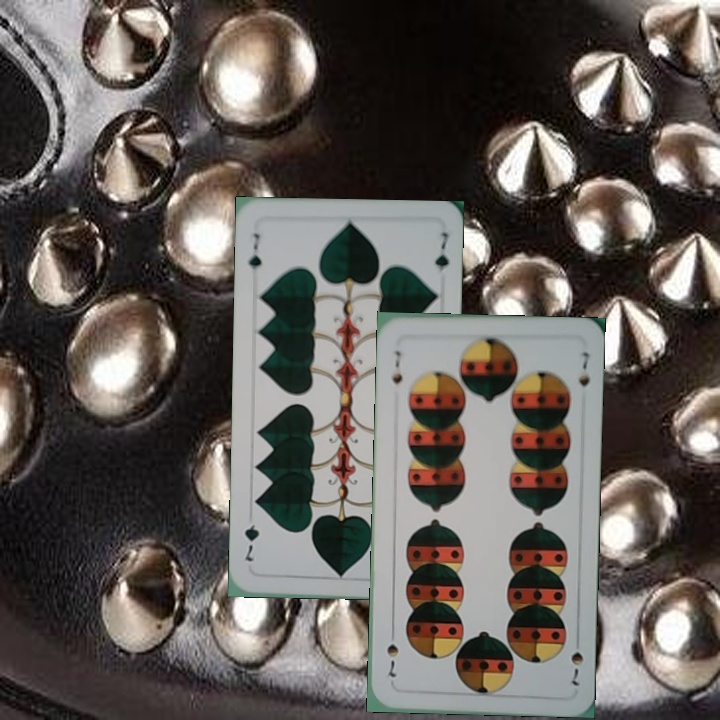G7: (244, 229, 264, 272)
S7: (567, 647, 586, 688), (388, 347, 405, 387)
